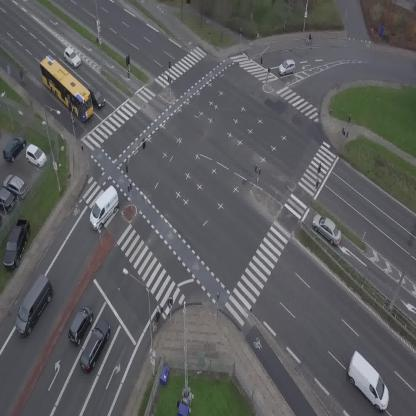bicycle: (153, 306, 164, 324), (17, 69, 27, 85), (305, 32, 313, 43)
bus: (31, 52, 102, 123)
car: (75, 316, 116, 375), (63, 302, 98, 347), (306, 211, 347, 248), (84, 83, 107, 111), (60, 46, 83, 69), (277, 58, 298, 77)
lorry: (336, 350, 400, 414), (6, 273, 60, 339), (81, 185, 127, 232)
